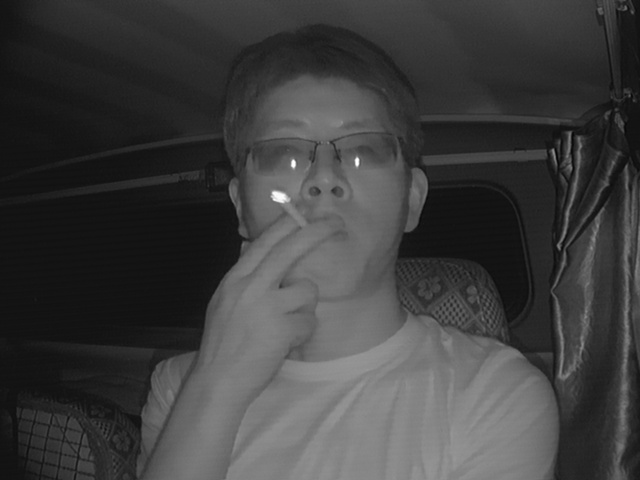hand: (243, 203, 338, 347)
